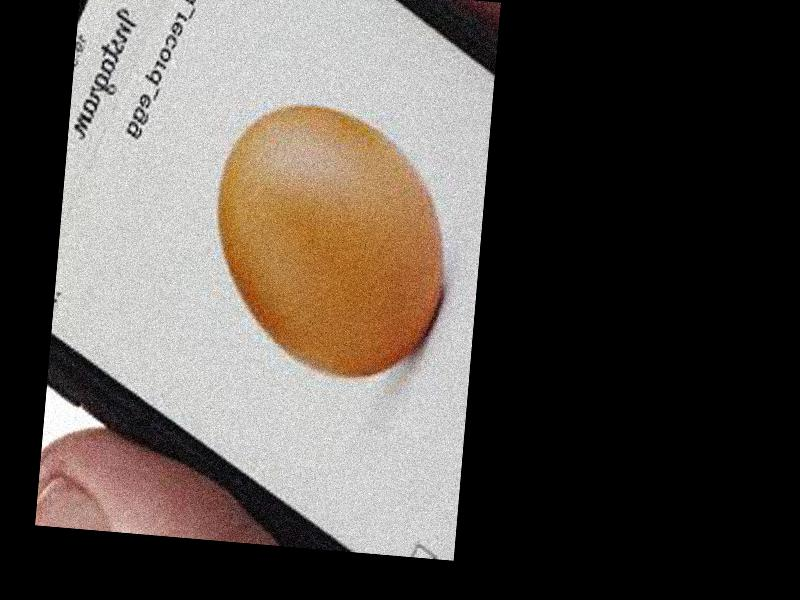Eggs: (204, 99, 455, 384)
